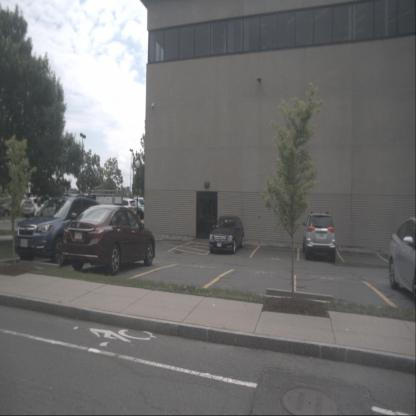vehicle-car: (61, 204, 156, 276), (14, 192, 101, 266), (388, 216, 416, 313), (302, 211, 336, 262), (209, 215, 244, 255), (107, 198, 136, 218), (22, 195, 45, 216), (130, 197, 145, 210)
